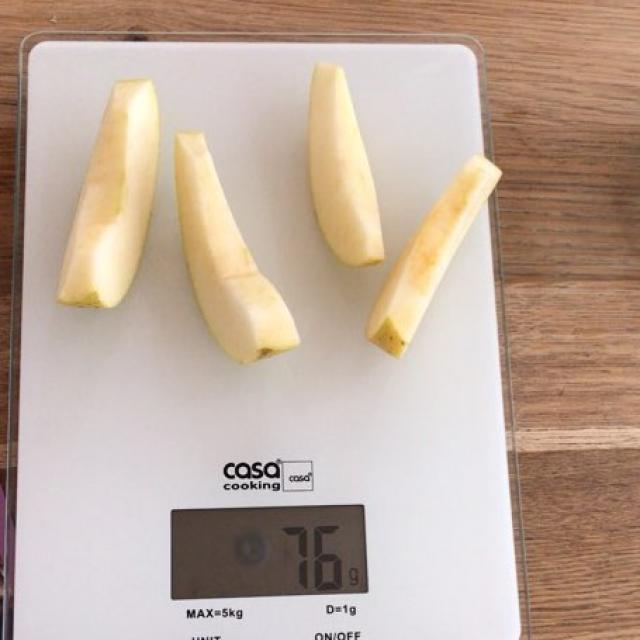apple: (56, 54, 502, 360)
